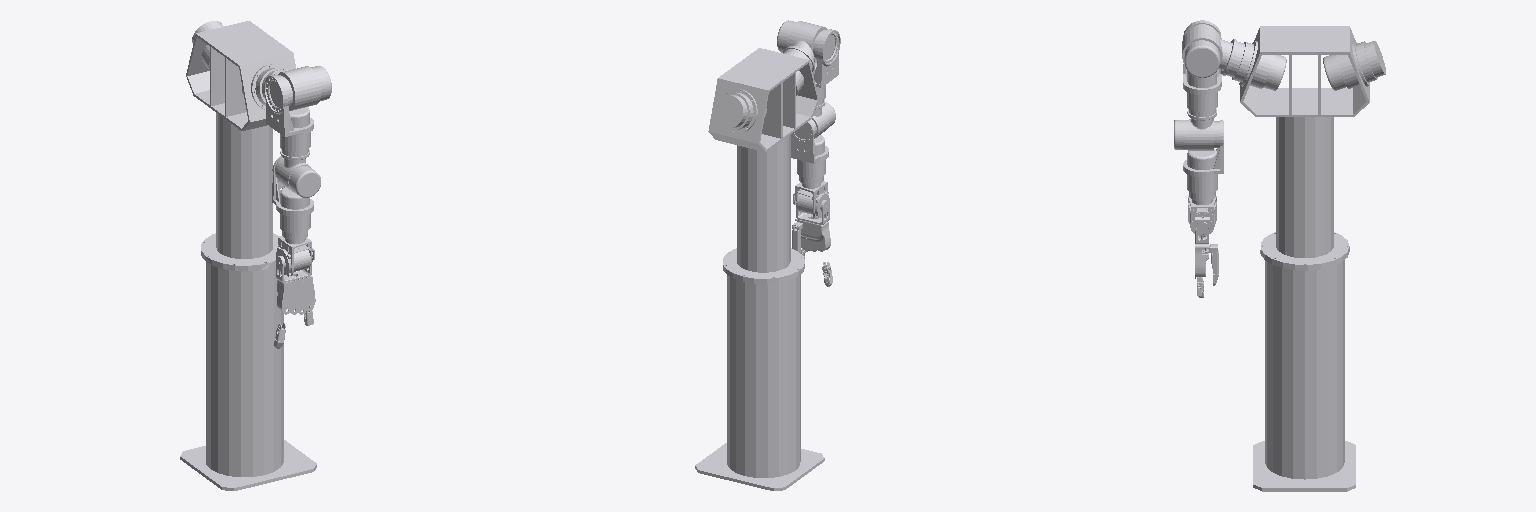
--- Facts derived from the render (not from the file) ---
3 views of the same robot in one strip: view 1: azimuth 30°, elevation 25°; view 2: azimuth 150°, elevation 25°; view 3: azimuth 270°, elevation 25° (orthographic).
Model nursing_robot with 30 links and 29 joints (21 revolute, 8 fixed), rooted at world, posed all joints at 0.
Links seen in each view (by area): view 1: base_Link, bigarm_Link, shoulder_Link, forearm_Link, elbow_Link, palm_Link, wrist_Link; view 2: base_Link, shoulder_Link, forearm_Link, bigarm_Link, wrist_Link, palm_Link, elbow_Link; view 3: base_Link, shoulder_Link, forearm_Link, bigarm_Link, elbow_Link, wrist_Link.
Boxes of the visible links, x1,y1,x2,y2 form: base_Link: (180,21,316,490); bigarm_Link: (264,75,313,156); shoulder_Link: (269,66,331,110); forearm_Link: (272,156,313,238); elbow_Link: (275,149,320,197); palm_Link: (277,276,315,314); wrist_Link: (276,235,314,276); base_Link: (695,48,824,490); shoulder_Link: (777,20,834,71); forearm_Link: (791,121,828,183); bigarm_Link: (813,29,840,105); wrist_Link: (793,179,829,218); palm_Link: (795,218,830,251); elbow_Link: (794,99,835,138); base_Link: (1227,26,1385,491); shoulder_Link: (1182,24,1237,77); forearm_Link: (1183,120,1223,199); bigarm_Link: (1183,20,1221,116); elbow_Link: (1174,109,1219,150); wrist_Link: (1188,195,1216,235).
Size in the robot's own frame: 0.249 by 0.4749 by 1.07 metres.
14 mesh visuals loaded from 23 distinct referenced files (14 binary STL); not drawn: 9 (reference not matched to a file when rendering).

The robot description file, URDF, robot "nursing_robot":
<robot
  name="nursing_robot">
 
  <link name="world"/>
 
  <joint
        name="base_connected2_world"
        type="fixed">
        <origin
        xyz="0 0 0"
        rpy="0 0 0" />
        <parent
        link="world" />
        <child
        link="base_Link" />
  </joint>

  <link
    name="base_Link">
    <inertial>
      <origin
        xyz="0.000975116535704247 -5.24080019366343E-16 0.653724872071743"
        rpy="0 0 0" />
      <mass
        value="13.1342209172534" />
      <inertia
        ixx="1.79837128310824"
        ixy="3.33392168039293E-18"
        ixz="0.00832128372767534"
        iyy="1.73981545954472"
        iyz="-4.02455846426619E-15"
        izz="0.121238103130393" />
    </inertial>
    <visual>
      <origin
        xyz="0 0 0"
        rpy="0 0 0" />
      <geometry>
        <mesh
          filename="package://nursing_description/meshes/base_link.STL" />
      </geometry>
      <material
        name="">
        <color
          rgba="0.866666666666667 0.866666666666667 0.890196078431373 1" />
      </material>
    </visual>
    <collision>
      <origin
        xyz="0 0 0"
        rpy="0 0 0" />
      <geometry>
        <mesh
          filename="package://nursing_description/meshes/base_link.STL" />
      </geometry>
    </collision>
  </link>

  <link
    name="shoulder_Link">
    <inertial>
      <origin
        xyz="-1.10770721484244E-08 -0.0126123963344358 0.00316621571354569"
        rpy="0 0 0" />
      <mass
        value="2.0005761085265" />
      <inertia
        ixx="0.00340242764902868"
        ixy="-2.47585028952477E-10"
        ixz="-4.78792550528614E-10"
        iyy="0.00213435518597974"
        iyz="-7.92332889559266E-05"
        izz="0.00314052250895575" />
    </inertial>
    <visual>
      <origin
        xyz="0 0 0"
        rpy="0 0 0" />
      <geometry>
        <mesh
          filename="package://nursing_description/meshes/shoulder_Link.STL" />
      </geometry>
      <material
        name="">
        <color
          rgba="0.866666666666667 0.866666666666667 0.890196078431373 1" />
      </material>
    </visual>
    <collision>
      <origin
        xyz="0 0 0"
        rpy="0 0 0" />
      <geometry>
        <mesh
          filename="package://nursing_description/meshes/shoulder_Link.STL" />
      </geometry>
    </collision>
  </link>

  <joint
    name="shoulder_Joint"
    type="revolute">
    <origin
      xyz="0 -0.22916 1.029"
      rpy="3.1416 1.2217 -1.5708" />
    <parent
      link="base_Link" />
    <child
      link="shoulder_Link" />
    <axis
      xyz="0 0 -1" />
    <limit
      lower="-3.1415"
      upper="3.1415"
      effort="120"
      velocity="6" />
    <dynamics
      damping="2"
      friction="0.3" />
  </joint>

  <link
    name="bigarm_Link">
    <inertial>
      <origin
        xyz="-9.3721702620897E-10 0.0942612985078085 -0.00683177829272414"
        rpy="0 0 0" />
      <mass
        value="1.3084597452699" />
      <inertia
        ixx="0.00242417981202897"
        ixy="2.47990218963625E-10"
        ixz="-8.73582284894497E-11"
        iyy="0.00123264296704978"
        iyz="-0.000442491903562605"
        izz="0.0022350526637949" />
    </inertial>
    <visual>
      <origin
        xyz="0 0 0"
        rpy="0 0 0" />
      <geometry>
        <mesh
          filename="package://nursing_description/meshes/bigarm_Link.STL" />
      </geometry>
      <material
        name="">
        <color
          rgba="0.866666666666667 0.866666666666667 0.890196078431373 1" />
      </material>
    </visual>
    <collision>
      <origin
        xyz="0 0 0"
        rpy="0 0 0" />
      <geometry>
        <mesh
          filename="package://nursing_description/meshes/bigarm_Link.STL" />
      </geometry>
    </collision>
  </link>

  <joint
    name="bigarm_Joint"
    type="revolute">
    <origin
      xyz="0 0 0"
      rpy="1.5708 1.2217 1.4884E-16" />
    <parent
      link="shoulder_Link" />
    <child
      link="bigarm_Link" />
    <axis
      xyz="0 0 -1" />
    <limit
      lower="-3.1415"
      upper="3.1415"
      effort="120"
      velocity="6" />
    <dynamics
      damping="2"
      friction="0.3" />
  </joint>

  <link
    name="elbow_Link">
    <inertial>
      <origin
        xyz="-8.91997043322197E-08 -0.00958056604066806 0.00550381000541089"
        rpy="0 0 0" />
      <mass
        value="1.18537012149853" />
      <inertia
        ixx="0.00154695052001683"
        ixy="-6.22143055836505E-10"
        ixz="-3.33603505356145E-09"
        iyy="0.000898816208241872"
        iyz="-6.2262995562934E-05"
        izz="0.00131163104230723" />
    </inertial>
    <visual>
      <origin
        xyz="0 0 0"
        rpy="0 0 0" />
      <geometry>
        <mesh
          filename="package://nursing_description/meshes/elbow_Link.STL" />
      </geometry>
      <material
        name="">
        <color
          rgba="0.866666666666667 0.866666666666667 0.890196078431373 1" />
      </material>
    </visual>
    <collision>
      <origin
        xyz="0 0 0"
        rpy="0 0 0" />
      <geometry>
        <mesh
          filename="package://nursing_description/meshes/elbow_Link.STL" />
      </geometry>
    </collision>
  </link>

  <joint
    name="elbow_Joint"
    type="revolute">
    <origin
      xyz="0 0.213 0"
      rpy="1.5708 -1.5708 0" />
    <parent
      link="bigarm_Link" />
    <child
      link="elbow_Link" />
    <axis
      xyz="0 0 1" />
    <limit
      lower="-3.1415"
      upper="3.1415"
      effort="60"
      velocity="6" />
    <dynamics
      damping="2"
      friction="0.3" />
  </joint>

  <link
    name="forearm_Link">
    <inertial>
      <origin
        xyz="2.24516415571224E-10 0.0885418372252827 -0.00303339081772486"
        rpy="0 0 0" />
      <mass
        value="1.18315193630833" />
      <inertia
        ixx="0.00167556758311703"
        ixy="-2.52012583202254E-12"
        ixz="5.61444410618564E-12"
        iyy="0.000885550233169105"
        iyz="-0.00016786378820563"
        izz="0.00157093160340839" />
    </inertial>
    <visual>
      <origin
        xyz="0 0 0"
        rpy="0 0 0" />
      <geometry>
        <mesh
          filename="package://nursing_description/meshes/forearm_Link.STL" />
      </geometry>
      <material
        name="">
        <color
          rgba="0.866666666666667 0.866666666666667 0.890196078431373 1" />
      </material>
    </visual>
    <collision>
      <origin
        xyz="0 0 0"
        rpy="0 0 0" />
      <geometry>
        <mesh
          filename="package://nursing_description/meshes/forearm_Link.STL" />
      </geometry>
    </collision>
  </link>

  <joint
    name="forearm_Joint"
    type="revolute">
    <origin
      xyz="0 0 0"
      rpy="-1.5708 0 3.1416" />
    <parent
      link="elbow_Link" />
    <child
      link="forearm_Link" />
    <axis
      xyz="0 0 -1" />
    <limit
      lower="-3.1415"
      upper="3.1415"
      effort="60"
      velocity="6" />
    <dynamics
      damping="2"
      friction="0.3" />
  </joint>

  <link
    name="wrist_Link">
    <inertial>
      <origin
        xyz="5.37717210896682E-07 -0.00317030985847225 0.00829753983993398"
        rpy="0 0 0" />
      <mass
        value="0.523525347931366" />
      <inertia
        ixx="0.000448235209138222"
        ixy="5.17833271363148E-09"
        ixz="1.31122834779533E-09"
        iyy="0.000375957230561681"
        iyz="-1.96584749734734E-05"
        izz="0.000312721910908243" />
    </inertial>
    <visual>
      <origin
        xyz="0 0 0"
        rpy="0 0 0" />
      <geometry>
        <mesh
          filename="package://nursing_description/meshes/wrist_Link.STL" />
      </geometry>
      <material
        name="">
        <color
          rgba="0.866666666666667 0.866666666666667 0.890196078431373 1" />
      </material>
    </visual>
    <collision>
      <origin
        xyz="0 0 0"
        rpy="0 0 0" />
      <geometry>
        <mesh
          filename="package://nursing_description/meshes/wrist_Link.STL" />
      </geometry>
    </collision>
  </link>

  <joint
    name="wrist_Joint"
    type="revolute">
    <origin
      xyz="0 0.211 0"
      rpy="1.5708 -1.5708 0" />
    <parent
      link="forearm_Link" />
    <child
      link="wrist_Link" />
    <axis
      xyz="0 0 1" />
    <limit
      lower="-3.1415"
      upper="3.1415"
      effort="60"
      velocity="6" />
    <dynamics
      damping="2"
      friction="0.3" />
  </joint>

  <link
    name="wrist_palm_Link">
    <inertial>
      <origin
        xyz="-2.77555756156289E-17 0.0212635124433856 0.00362088321038934"
        rpy="0 0 0" />
      <mass
        value="0.0785897078168313" />
      <inertia
        ixx="0.000105638187462249"
        ixy="-2.39957216855404E-20"
        ixz="-6.06530484064865E-21"
        iyy="8.02353574061376E-05"
        iyz="-2.01750373326787E-07"
        izz="3.78719966391509E-05" />
    </inertial>
    <visual>
      <origin
        xyz="0 0 0"
        rpy="0 0 0" />
      <geometry>
        <mesh
          filename="package://nursing_description/meshes/wrist_palm_Link.STL" />
      </geometry>
      <material
        name="">
        <color
          rgba="0.866666666666667 0.866666666666667 0.890196078431373 1" />
      </material>
    </visual>
    <collision>
      <origin
        xyz="0 0 0"
        rpy="0 0 0" />
      <geometry>
        <mesh
          filename="package://nursing_description/meshes/wrist_palm_Link.STL" />
      </geometry>
    </collision>
  </link>

  <joint
    name="wrist_palm_Joint"
    type="revolute">
    <origin
      xyz="0 -0.0005 0"
      rpy="-1.5708 -4.1197E-17 -3.1416" />
    <parent
      link="wrist_Link" />
    <child
      link="wrist_palm_Link" />
    <axis
      xyz="0 0 -1" />
    <limit
      lower="-3.1415"
      upper="3.1415"
      effort="30"
      velocity="6" />
    <dynamics
      damping="2"
      friction="0.3" />
  </joint>
  <link name="tool_Link"/>

  <joint
    name="tool_mount_Joint"
    type="fixed">
    <origin
      xyz="0 0.045 0"
      rpy="-4.7783E-19 -4.2367E-17 -9.2245E-20" />
    <parent
      link="wrist_palm_Link" />
    <child
      link="tool_Link" />
  </joint>
  
  <link
    name="palm_Link">
    <inertial>
      <origin
        xyz="-0.000858917467673748 0.0783018654779908 -0.000685339950457218"
        rpy="0 0 0" />
      <mass
        value="0.185255775815419" />
      <inertia
        ixx="0.000201199253090397"
        ixy="3.66744909869903E-06"
        ixz="-2.66736820132481E-06"
        iyy="0.000122776533201212"
        iyz="2.85253552275154E-06"
        izz="0.00011848560937483" />
    </inertial>
    <visual>
      <origin
        xyz="0 0 0"
        rpy="0 0 0" />
      <geometry>
        <mesh
          filename="package://nursing_description/meshes/palm_Link.STL" />
      </geometry>
      <material
        name="">
        <color
          rgba="0.866666666666667 0.866666666666667 0.890196078431373 1" />
      </material>
    </visual>
    <collision>
      <origin
        xyz="0 0 0"
        rpy="0 0 0" />
      <geometry>
        <mesh
          filename="package://nursing_description/meshes/palm_Link.STL" />
      </geometry>
    </collision>
  </link>

  <joint
    name="tool_mount_Joint2"
    type="fixed">
    <origin
      xyz="0 -0.045 0"
      rpy="-4.7783E-19 -4.2367E-17 -9.2245E-20" />
    <parent
      link="tool_Link" />
    <child
      link="palm_Link" />
  </joint>

  <link
    name="thumb_root_Link">
    <inertial>
      <origin
        xyz="0.0125818962606528 -4.87799550893953E-05 -0.000801264271478086"
        rpy="0 0 0" />
      <mass
        value="0.00873863966494842" />
      <inertia
        ixx="4.78618606797515E-07"
        ixy="4.67506565969486E-09"
        ixz="6.50786986041919E-08"
        iyy="6.59226240926663E-07"
        iyz="-2.42881192046454E-09"
        izz="7.73142386256592E-07" />
    </inertial>
    <visual>
      <origin
        xyz="0 0 0"
        rpy="0 0 0" />
      <geometry>
        <mesh
          filename="package://nursing_description/meshes/thumb_root_Link.STL" />
      </geometry>
      <material
        name="">
        <color
          rgba="0.866666666666667 0.866666666666667 0.890196078431373 1" />
      </material>
    </visual>
    <collision>
      <origin
        xyz="0 0 0"
        rpy="0 0 0" />
      <geometry>
        <mesh
          filename="package://nursing_description/meshes/thumb_root_Link.STL" />
      </geometry>
    </collision>
  </link>

  <joint
    name="thumb_root_Joint"
    type="revolute">
    <origin
      xyz="0.008 0.059 -0.0245"
      rpy="-1.5708 1.8288E-16 -3.4659E-16" />
    <parent
      link="palm_Link" />
    <child
      link="thumb_root_Link" />
    <axis
      xyz="0 0 1" />
    <limit
      lower="-3.1415"
      upper="3.1415"
      effort="1"
      velocity="3" />
    <dynamics
      damping="0.1"
      friction="0.1" />
  </joint>

  <link
    name="thumb_pulp_Link">
    <inertial>
      <origin
        xyz="0.027449995981349 -0.000752092685807448 8.2502130787053E-06"
        rpy="0 0 0" />
      <mass
        value="0.0341453180652159" />
      <inertia
        ixx="1.62379136177592E-06"
        ixy="-1.99115121352193E-07"
        ixz="7.70421455920083E-09"
        iyy="7.56851305166079E-06"
        iyz="-2.12966638961326E-10"
        izz="7.30923754370069E-06" />
    </inertial>
    <visual>
      <origin
        xyz="0 0 0"
        rpy="0 0 0" />
      <geometry>
        <mesh
          filename="package://nursing_description/meshes/thumb_pulp_Link.STL" />
      </geometry>
      <material
        name="">
        <color
          rgba="0.866666666666667 0.866666666666667 0.890196078431373 1" />
      </material>
    </visual>
    <collision>
      <origin
        xyz="0 0 0"
        rpy="0 0 0" />
      <geometry>
        <mesh
          filename="package://nursing_description/meshes/thumb_pulp_Link.STL" />
      </geometry>
    </collision>
  </link>

  <joint
    name="thumb_pulp_Joint"
    type="revolute">
    <origin
      xyz="0.0215 0 0"
      rpy="-1.5707 -1.5708 0" />
    <parent
      link="thumb_root_Link" />
    <child
      link="thumb_pulp_Link" />
    <axis
      xyz="0 0 -1" />
    <limit
      lower="-3.1415"
      upper="3.1415"
      effort="0.5"
      velocity="3" />
    <dynamics
      damping="0.1"
      friction="0.1" />
  </joint>

  <link
    name="thumb_tip_Link">
    <inertial>
      <origin
        xyz="-0.0152691862985479 0.0072465218121634 2.09723793173078E-05"
        rpy="0 0 0" />
      <mass
        value="0.013992456954275" />
      <inertia
        ixx="8.66964655825818E-07"
        ixy="3.92842326251715E-07"
        ixz="-4.49412174540461E-09"
        iyy="1.39449488012268E-06"
        iyz="2.13608665298848E-09"
        izz="1.4425188628725E-06" />
    </inertial>
    <visual>
      <origin
        xyz="0 0 0"
        rpy="0 0 0" />
      <geometry>
        <mesh
          filename="package://nursing_description/meshes/thumb_tip_Link.STL" />
      </geometry>
      <material
        name="">
        <color
          rgba="0.866666666666667 0.866666666666667 0.890196078431373 1" />
      </material>
    </visual>
    <collision>
      <origin
        xyz="0 0 0"
        rpy="0 0 0" />
      <geometry>
        <mesh
          filename="package://nursing_description/meshes/thumb_tip_Link.STL" />
      </geometry>
    </collision>
  </link>

  <joint
    name="thumb_tip_Joint"
    type="revolute">
    <origin
      xyz="0.053 0 0"
      rpy="-1.5707 3.14159 1.5707" />
    <parent
      link="thumb_pulp_Link" />
    <child
      link="thumb_tip_Link" />
    <axis
      xyz="0 0 -1" />
    <limit
      lower="-3.1415"
      upper="3.1415"
      effort="0.5"
      velocity="3" />
    <dynamics
      damping="0.1"
      friction="0.1" />
  </joint>

  <link
    name="finger_root_Link1">
    <inertial>
      <origin
        xyz="0.00085421358266341 0.0179894317640127 4.90932063612615E-08"
        rpy="0 0 0" />
      <mass
        value="0.00998735644770016" />
      <inertia
        ixx="1.62809417646463E-06"
        ixy="1.1020761906609E-07"
        ixz="-4.39577614689512E-12"
        iyy="6.08730286509201E-07"
        iyz="5.7526352716471E-13"
        izz="1.53692392596848E-06" />
    </inertial>
    <visual>
      <origin
        xyz="0 0 0"
        rpy="0 0 0" />
      <geometry>
        <mesh
          filename="package://nursing_description/meshes/finger_root_Link1.STL" />
      </geometry>
      <material
        name="">
        <color
          rgba="0.866666666666667 0.866666666666667 0.890196078431373 1" />
      </material>
    </visual>
    <collision>
      <origin
        xyz="0 0 0"
        rpy="0 0 0" />
      <geometry>
        <mesh
          filename="package://nursing_description/meshes/finger_root_Link1.STL" />
      </geometry>
    </collision>
  </link>

  <joint
    name="finger_root_Joint1"
    type="revolute">
    <origin
      xyz="-0.006 0.12897 -0.030784"
      rpy="-0.087266 3.8885E-16 -9.7966E-17" />
    <parent
      link="palm_Link" />
    <child
      link="finger_root_Link1" />
    <axis
      xyz="0 0 -1" />
    <limit
      lower="-3.1415"
      upper="3.1415"
      effort="1"
      velocity="6" />
    <dynamics
      damping="0.1"
      friction="0.1" />
  </joint>

  <link
    name="finger_pulp_Link1">
    <inertial>
      <origin
        xyz="0.000323041387879197 0.0155892015854537 8.49032423644314E-07"
        rpy="0 0 0" />
      <mass
        value="0.00868632679939799" />
      <inertia
        ixx="1.14779480878089E-06"
        ixy="7.75788539608331E-08"
        ixz="3.94437985959936E-11"
        iyy="5.07653574731615E-07"
        iyz="1.03932782776036E-10"
        izz="1.03364601842098E-06" />
    </inertial>
    <visual>
      <origin
        xyz="0 0 0"
        rpy="0 0 0" />
      <geometry>
        <mesh
          filename="package://nursing_description/meshes/finger_pulp_Link1.STL" />
      </geometry>
      <material
        name="">
        <color
          rgba="0.866666666666667 0.866666666666667 0.890196078431373 1" />
      </material>
    </visual>
    <collision>
      <origin
        xyz="0 0 0"
        rpy="0 0 0" />
      <geometry>
        <mesh
          filename="package://nursing_description/meshes/finger_pulp_Link1.STL" />
      </geometry>
    </collision>
  </link>

  <joint
    name="finger_pulp_Joint1"
    type="revolute">
    <origin
      xyz="0 0.033 0"
      rpy="1.0686E-15 -1.6181E-17 3.2315E-16" />
    <parent
      link="finger_root_Link1" />
    <child
      link="finger_pulp_Link1" />
    <axis
      xyz="0 0 -1" />
    <limit
      lower="-3.1415"
      upper="3.1415"
      effort="0.5"
      velocity="3" />
    <dynamics
      damping="0.1"
      friction="0.1" />
  </joint>

  <link
    name="finger_tip_Link1">
    <inertial>
      <origin
        xyz="0.00148025519930298 0.0131304666536947 2.77465185490322E-05"
        rpy="0 0 0" />
      <mass
        value="0.0106102845095467" />
      <inertia
        ixx="8.33617935098718E-07"
        ixy="-6.54450353100635E-08"
        ixz="4.3263337484433E-10"
        iyy="5.07253023124455E-07"
        iyz="3.86570286955424E-09"
        izz="7.4683637887455E-07" />
    </inertial>
    <visual>
      <origin
        xyz="0 0 0"
        rpy="0 0 0" />
      <geometry>
        <mesh
          filename="package://nursing_description/meshes/finger_tip_Link1.STL" />
      </geometry>
      <material
        name="">
        <color
          rgba="0.866666666666667 0.866666666666667 0.890196078431373 1" />
      </material>
    </visual>
    <collision>
      <origin
        xyz="0 0 0"
        rpy="0 0 0" />
      <geometry>
        <mesh
          filename="package://nursing_description/meshes/finger_tip_Link1.STL" />
      </geometry>
    </collision>
  </link>

  <joint
    name="finger_tip_Joint1"
    type="revolute">
    <origin
      xyz="0 0.028 0"
      rpy="-4.3021E-16 -5.8465E-16 -7.6495E-16" />
    <parent
      link="finger_pulp_Link1" />
    <child
      link="finger_tip_Link1" />
    <axis
      xyz="0 0 -1" />
    <limit
      lower="-3.1415"
      upper="3.1415"
      effort="0.5"
      velocity="3" />
    <dynamics
      damping="0.1"
      friction="0.1" />
  </joint>

  <link
    name="finger_root_Link2">
    <inertial>
      <origin
        xyz="0.000854209403321843 0.017989434507023 4.51930543318019E-08"
        rpy="0 0 0" />
      <mass
        value="0.00998735107929643" />
      <inertia
        ixx="1.62809409863191E-06"
        ixy="1.10207023652924E-07"
        ixz="-4.35047632176436E-12"
        iyy="6.08730243149985E-07"
        iyz="7.25655903585178E-13"
        izz="1.53692348120912E-06" />
    </inertial>
    <visual>
      <origin
        xyz="0 0 0"
        rpy="0 0 0" />
      <geometry>
        <mesh
          filename="package://nursing_description/meshes/finger_root_Link2.STL" />
      </geometry>
      <material
        name="">
        <color
          rgba="0.866666666666667 0.866666666666667 0.890196078431373 1" />
      </material>
    </visual>
    <collision>
      <origin
        xyz="0 0 0"
        rpy="0 0 0" />
      <geometry>
        <mesh
          filename="package://nursing_description/meshes/finger_root_Link2.STL" />
      </geometry>
    </collision>
  </link>

  <joint
    name="finger_root_Joint2"
    type="revolute">
    <origin
      xyz="-0.006 0.134 -0.01"
      rpy="7.0377E-16 4.4735E-16 4.7878E-16" />
    <parent
      link="palm_Link" />
    <child
      link="finger_root_Link2" />
    <axis
      xyz="0 0 -1" />
    <limit
      lower="-3.1415"
      upper="3.1415"
      effort="1"
      velocity="6" />
    <dynamics
      damping="0.1"
      friction="0.1" />
  </joint>

  <link
    name="finger_pulp_Link2">
    <inertial>
      <origin
        xyz="0.000323032946156931 0.0155892046967881 8.5182315229422E-07"
        rpy="0 0 0" />
      <mass
        value="0.00868631420920856" />
      <inertia
        ixx="1.14779416686536E-06"
        ixy="7.75786511115928E-08"
        ixz="3.92446550182023E-11"
        iyy="5.07652686877478E-07"
        iyz="1.03881261463607E-10"
        izz="1.03364543876975E-06" />
    </inertial>
    <visual>
      <origin
        xyz="0 0 0"
        rpy="0 0 0" />
      <geometry>
        <mesh
          filename="package://nursing_description/meshes/finger_pulp_Link2.STL" />
      </geometry>
      <material
        name="">
        <color
          rgba="0.866666666666667 0.866666666666667 0.890196078431373 1" />
      </material>
    </visual>
    <collision>
      <origin
        xyz="0 0 0"
        rpy="0 0 0" />
      <geometry>
        <mesh
          filename="package://nursing_description/meshes/finger_pulp_Link2.STL" />
      </geometry>
    </collision>
  </link>

  <joint
    name="finger_pulp_Joint2"
    type="revolute">
    <origin
      xyz="0 0.033 0"
      rpy="9.0577E-16 -6.008E-16 -5.9674E-16" />
    <parent
      link="finger_root_Link2" />
    <child
      link="finger_pulp_Link2" />
    <axis
      xyz="0 0 1" />
    <limit
      lower="-3.1415"
      upper="3.1415"
      effort="0.5"
      velocity="3" />
    <dynamics
      damping="0.1"
      friction="0.1" />
  </joint>

  <link
    name="finger_tip_Link2">
    <inertial>
      <origin
        xyz="0.00148025358833312 0.0131304692738635 2.77421047547525E-05"
        rpy="0 0 0" />
      <mass
        value="0.0106102830262735" />
      <inertia
        ixx="8.33618125744598E-07"
        ixy="-6.54448503304505E-08"
        ixz="4.3268366444515E-10"
        iyy="5.07252849252122E-07"
        iyz="3.86592513273236E-09"
        izz="7.46836423409837E-07" />
    </inertial>
    <visual>
      <origin
        xyz="0 0 0"
        rpy="0 0 0" />
      <geometry>
        <mesh
          filename="package://nursing_description/meshes/finger_tip_Link2.STL" />
      </geometry>
      <material
        name="">
        <color
          rgba="0.866666666666667 0.866666666666667 0.890196078431373 1" />
      </material>
    </visual>
    <collision>
      <origin
        xyz="0 0 0"
        rpy="0 0 0" />
      <geometry>
        <mesh
          filename="package://nursing_description/meshes/finger_tip_Link2.STL" />
      </geometry>
    </collision>
  </link>

  <joint
    name="finger_tip_Joint2"
    type="revolute">
    <origin
      xyz="0 0.028 0"
      rpy="-2.1837E-16 -3.6714E-16 7.6328E-17" />
    <parent
      link="finger_pulp_Link2" />
    <child
      link="finger_tip_Link2" />
    <axis
      xyz="0 0 1" />
    <limit
      lower="-3.1415"
      upper="3.1415"
      effort="0.5"
      velocity="3" />
    <dynamics
      damping="0.1"
      friction="0.1" />
  </joint>

  <link
    name="finger_root__Link3">
    <inertial>
      <origin
        xyz="0.000854216158261562 0.0179894301933772 4.5116595868977E-08"
        rpy="0 0 0" />
      <mass
        value="0.00998736281169698" />
      <inertia
        ixx="1.62809466763915E-06"
        ixy="1.10207637026019E-07"
        ixz="-4.59350016183217E-12"
        iyy="6.08731021353847E-07"
        iyz="9.86877235574565E-13"
        izz="1.53692422034934E-06" />
    </inertial>
    <visual>
      <origin
        xyz="0 0 0"
        rpy="0 0 0" />
      <geometry>
        <mesh
          filename="package://nursing_description/meshes/finger_root__Link3.STL" />
      </geometry>
      <material
        name="">
        <color
          rgba="0.866666666666667 0.866666666666667 0.890196078431373 1" />
      </material>
    </visual>
    <collision>
      <origin
        xyz="0 0 0"
        rpy="0 0 0" />
      <geometry>
        <mesh
          filename="package://nursing_description/meshes/finger_root__Link3.STL" />
      </geometry>
    </collision>
  </link>

  <joint
    name="finger_root_Joint3"
    type="revolute">
    <origin
      xyz="-0.006 0.12897 0.010784"
      rpy="0.087266 2.4291E-16 3.8913E-16" />
    <parent
      link="palm_Link" />
    <child
      link="finger_root__Link3" />
    <axis
      xyz="0 0 -1" />
    <limit
      lower="-3.1415"
      upper="3.1415"
      effort="1"
      velocity="6" />
    <dynamics
      damping="0.1"
      friction="0.1" />
  </joint>

  <link
    name="finger_pulp_Link3">
    <inertial>
      <origin
        xyz="0.000323040451644913 0.0155892002842233 8.53525906306662E-07"
        rpy="0 0 0" />
      <mass
        value="0.00868632383973415" />
      <inertia
        ixx="1.14779455901612E-06"
        ixy="7.75789409004714E-08"
        ixz="3.90694121496773E-11"
        iyy="5.07653198288308E-07"
        iyz="1.03968358082949E-10"
        izz="1.03364623913664E-06" />
    </inertial>
    <visual>
      <origin
        xyz="0 0 0"
        rpy="0 0 0" />
      <geometry>
        <mesh
          filename="package://nursing_description/meshes/finger_pulp_Link3.STL" />
      </geometry>
      <material
        name="">
        <color
          rgba="0.866666666666667 0.866666666666667 0.890196078431373 1" />
      </material>
    </visual>
    <collision>
      <origin
        xyz="0 0 0"
        rpy="0 0 0" />
      <geometry>
        <mesh
          filename="package://nursing_description/meshes/finger_pulp_Link3.STL" />
      </geometry>
    </collision>
  </link>

  <joint
    name="finger_pulp_Joint3"
    type="revolute">
    <origin
      xyz="0 0.033 0"
      rpy="1.2212E-15 2.5285E-16 -4.7876E-16" />
    <parent
      link="finger_root__Link3" />
    <child
      link="finger_pulp_Link3" />
    <axis
      xyz="0 0 1" />
    <limit
      lower="-3.1415"
      upper="3.1415"
      effort="0.5"
      velocity="3" />
    <dynamics
      damping="0.1"
      friction="0.1" />
  </joint>

  <link
    name="finger_tip_Link3">
    <inertial>
      <origin
        xyz="0.00148025124885523 0.0131304687491611 2.77366166634846E-05"
        rpy="0 0 0" />
      <mass
        value="0.0106102772879917" />
      <inertia
        ixx="8.33617820044E-07"
        ixy="-6.54451256341447E-08"
        ixz="4.32743985174503E-10"
        iyy="5.07252714479879E-07"
        iyz="3.86619676388197E-09"
        izz="7.46836062326113E-07" />
    </inertial>
    <visual>
      <origin
        xyz="0 0 0"
        rpy="0 0 0" />
      <geometry>
        <mesh
          filename="package://nursing_description/meshes/finger_tip_Link3.STL" />
      </geometry>
      <material
        name="">
        <color
          rgba="0.866666666666667 0.866666666666667 0.890196078431373 1" />
      </material>
    </visual>
    <collision>
      <origin
        xyz="0 0 0"
        rpy="0 0 0" />
      <geometry>
        <mesh
          filename="package://nursing_description/meshes/finger_tip_Link3.STL" />
      </geometry>
    </collision>
  </link>

  <joint
    name="finger_tip_Joint3"
    type="revolute">
    <origin
      xyz="0 0.028 0"
      rpy="9.8532E-16 -1.195E-16 8.7053E-16" />
    <parent
      link="finger_pulp_Link3" />
    <child
      link="finger_tip_Link3" />
    <axis
      xyz="0 0 1" />
    <limit
      lower="-3.1415"
      upper="3.1415"
      effort="0.5"
      velocity="3" />
    <dynamics
      damping="0.1"
      friction="0.1" />
  </joint>

  <link
    name="finger_root__Link4">
    <inertial>
      <origin
        xyz="0.000854214380922175 0.0179894314736897 4.12605557498225E-08"
        rpy="0 0 0" />
      <mass
        value="0.00998736123193078" />
      <inertia
        ixx="1.62809469493317E-06"
        ixy="1.10208035100687E-07"
        ixz="-4.57529512154134E-12"
        iyy="6.08730990128511E-07"
        iyz="1.05000463533208E-12"
        izz="1.53692395398855E-06" />
    </inertial>
    <visual>
      <origin
        xyz="0 0 0"
        rpy="0 0 0" />
      <geometry>
        <mesh
          filename="package://nursing_description/meshes/finger_root__Link4.STL" />
      </geometry>
      <material
        name="">
        <color
          rgba="0.866666666666667 0.866666666666667 0.890196078431373 1" />
      </material>
    </visual>
    <collision>
      <origin
        xyz="0 0 0"
        rpy="0 0 0" />
      <geometry>
        <mesh
          filename="package://nursing_description/meshes/finger_root__Link4.STL" />
      </geometry>
    </collision>
  </link>

  <joint
    name="finger_root_Joint4"
    type="revolute">
    <origin
      xyz="-0.006 0.12386 0.031563"
      rpy="0.17453 -9.9426E-16 -2.4912E-16" />
    <parent
      link="palm_Link" />
    <child
      link="finger_root__Link4" />
    <axis
      xyz="0 0 -1" />
    <limit
      lower="-3.1415"
      upper="3.1415"
      effort="1"
      velocity="6" />
    <dynamics
      damping="0.1"
      friction="0.1" />
  </joint>

  <link
    name="finger_pulp_Link4">
    <inertial>
      <origin
        xyz="0.000323035621993095 0.0155892041303389 8.5559988254047E-07"
        rpy="0 0 0" />
      <mass
        value="0.00868631578597844" />
      <inertia
        ixx="1.14779397697803E-06"
        ixy="7.75788086698591E-08"
        ixz="3.88955819443451E-11"
        iyy="5.07652706334165E-07"
        iyz="1.0413128618827E-10"
        izz="1.03364569528293E-06" />
    </inertial>
    <visual>
      <origin
        xyz="0 0 0"
        rpy="0 0 0" />
      <geometry>
        <mesh
          filename="package://nursing_description/meshes/finger_pulp_Link4.STL" />
      </geometry>
      <material
        name="">
        <color
          rgba="0.866666666666667 0.866666666666667 0.890196078431373 1" />
      </material>
    </visual>
    <collision>
      <origin
        xyz="0 0 0"
        rpy="0 0 0" />
      <geometry>
        <mesh
          filename="package://nursing_description/meshes/finger_pulp_Link4.STL" />
      </geometry>
    </collision>
  </link>

  <joint
    name="finger_pulp_Joint4"
    type="revolute">
    <origin
      xyz="0 0.033 0"
      rpy="1.4155E-15 4.972E-16 -3.1323E-16" />
    <parent
      link="finger_root__Link4" />
    <child
      link="finger_pulp_Link4" />
    <axis
      xyz="0 0 1" />
    <limit
      lower="-3.1415"
      upper="3.1415"
      effort="0.5"
      velocity="3" />
    <dynamics
      damping="0.1"
      friction="0.1" />
  </joint>

  <link
    name="finger_tip_Link4">
    <inertial>
      <origin
        xyz="0.0014802533327806 0.0131304688781141 2.77323028520654E-05"
        rpy="0 0 0" />
      <mass
        value="0.010610279402941" />
      <inertia
        ixx="8.33617666276094E-07"
        ixy="-6.54453387989592E-08"
        ixz="4.32652410334316E-10"
        iyy="5.07252941570464E-07"
        iyz="3.86652617126035E-09"
        izz="7.46836088838055E-07" />
    </inertial>
    <visual>
      <origin
        xyz="0 0 0"
        rpy="0 0 0" />
      <geometry>
        <mesh
          filename="package://nursing_description/meshes/finger_tip_Link4.STL" />
      </geometry>
      <material
        name="">
        <color
          rgba="0.866666666666667 0.866666666666667 0.890196078431373 1" />
      </material>
    </visual>
    <collision>
      <origin
        xyz="0 0 0"
        rpy="0 0 0" />
      <geometry>
        <mesh
          filename="package://nursing_description/meshes/finger_tip_Link4.STL" />
      </geometry>
    </collision>
  </link>

  <joint
    name="finger_tip_Joint4"
    type="revolute">
    <origin
      xyz="0 0.028 0"
      rpy="6.3838E-16 -4.8265E-16 1.2541E-15" />
    <parent
      link="finger_pulp_Link4" />
    <child
      link="finger_tip_Link4" />
    <axis
      xyz="0 0 1" />
    <limit
      lower="-3.1415"
      upper="3.1415"
      effort="0.5"
      velocity="3" />
    <dynamics
      damping="0.1"
      friction="0.1" />
  </joint>

  <link name="index_ee_Link"/>
  
  <joint
    name="index_ee_joint"
    type="fixed">
    <origin
      xyz="0.006 0.028 0"
      rpy="0.0 0.0 0.0" />
    <parent
      link="finger_tip_Link1" />
    <child
      link="index_ee_Link" />
  </joint>

  <link name="middle_ee_Link"/>
  
  <joint
    name="middle_ee_joint"
    type="fixed">
    <origin
      xyz="0.006 0.028 0"
      rpy="0.0 0.0 0.0" />
    <parent
      link="finger_tip_Link2" />
    <child
      link="middle_ee_Link" />
  </joint>

  <link name="ring_ee_Link"/>
  
  <joint
    name="ring_ee_joint"
    type="fixed">
    <origin
      xyz="0.006 0.028 0"
      rpy="0.0 0.0 0.0" />
    <parent
      link="finger_tip_Link3" />
    <child
      link="ring_ee_Link" />
  </joint>

  <link name="pingky_ee_Link"/>

  <joint
    name="pingky_ee_joint"
    type="fixed">
    <origin
      xyz="0.006 0.028 0"
      rpy="0.0 0.0 0.0" />
    <parent
      link="finger_tip_Link4" />
    <child
      link="pingky_ee_Link" />
  </joint>

  <link name="thumb_ee_Link"/>

  <joint
    name="thumb_ee_joint"
    type="fixed">
    <origin
      xyz="0.0065 0.0 -0.0365"
      rpy="0.0 0.0 0.0" />
    <parent
      link="thumb_tip_Link" />
    <child
      link="thumb_ee_Link" />
  </joint>
<!-- Gazebo plugin -->
    <gazebo>
        <plugin name="gazebo_ros_control" filename="libgazebo_ros_control.so">
        <robotNamespace>/nursing_robot</robotNamespace>
        <robotSimType>gazebo_ros_control/DefaultRobotHWSim</robotSimType>
        <legacyModeNS>true</legacyModeNS>
        </plugin>
    </gazebo>
<!--Transmission-->

<!--arm-->
    <transmission name="shoulder_Joint_trans">
      <type>transmission_interface/SimpleTransmission</type>
      <joint name="shoulder_Joint">        					          		  
        <hardwareInterface>hardware_interface/PositionJointInterface</hardwareInterface>
      </joint>
      <actuator name="shoulder_Joint_motor">
        <mechanicalReduction>1</mechanicalReduction>
      </actuator>
    </transmission>

    <transmission name="bigarm_Joint_trans">
      <type>transmission_interface/SimpleTransmission</type>
      <joint name="bigarm_Joint">        					          		  
        <hardwareInterface>hardware_interface/PositionJointInterface</hardwareInterface>
      </joint>
      <actuator name="bigarm_Joint_motor">
        <mechanicalReduction>1</mechanicalReduction>
      </actuator>
    </transmission>

   <transmission name="elbow_Joint_trans">
      <type>transmission_interface/SimpleTransmission</type>
      <joint name="elbow_Joint">        					          		  
        <hardwareInterface>hardware_interface/PositionJointInterface</hardwareInterface>
      </joint>
      <actuator name="elbow_Joint_motor">
        <mechanicalReduction>1</mechanicalReduction>
      </actuator>
    </transmission>

   <transmission name="forearm_Joint_trans">
      <type>transmission_interface/SimpleTransmission</type>
      <joint name="forearm_Joint">        					          		  
        <hardwareInterface>hardware_interface/PositionJointInterface</hardwareInterface>
      </joint>
      <actuator name="forearm_Joint_motor">
        <mechanicalReduction>1</mechanicalReduction>
      </actuator>
    </transmission>

    <transmission name="wrist_Joint_trans">
      <type>transmission_interface/SimpleTransmission</type>
      <joint name="wrist_Joint">        					          		  
        <hardwareInterface>hardware_interface/PositionJointInterface</hardwareInterface>
      </joint>
      <actuator name="wrist_Joint_motor">
        <mechanicalReduction>1</mechanicalReduction>
      </actuator>
    </transmission>

   <transmission name="wrist_palm_Joint_trans">
      <type>transmission_interface/SimpleTransmission</type>
      <joint name="wrist_palm_Joint">        					          		  
        <hardwareInterface>hardware_interface/PositionJointInterface</hardwareInterface>
      </joint>
      <actuator name="wrist_palm_Joint_motor">
        <mechanicalReduction>1</mechanicalReduction>
      </actuator>
    </transmission>
    
    <transmission name="thumb_root_Joint_trans">
      <type>transmission_interface/SimpleTransmission</type>
      <joint name="thumb_root_Joint">        					          		  
        <hardwareInterface>hardware_interface/PositionJointInterface</hardwareInterface>
      </joint>
      <actuator name="thumb_root_Joint_motor">
        <mechanicalReduction>1</mechanicalReduction>
      </actuator>
    </transmission>

     <transmission name="thumb_pulp_Joint_trans">
      <type>transmission_interface/SimpleTransmission</type>
      <joint name="thumb_pulp_Joint">        					          		  
        <hardwareInterface>hardware_interface/PositionJointInterface</hardwareInterface>
      </joint>
      <actuator name="thumb_pulp_Joint_motor">
        <mechanicalReduction>1</mechanicalReduction>
      </actuator>
    </transmission>
    
     <transmission name="thumb_tip_Joint_trans">
      <type>transmission_interface/SimpleTransmission</type>
      <joint name="thumb_tip_Joint">        					          		  
        <hardwareInterface>hardware_interface/PositionJointInterface</hardwareInterface>
      </joint>
      <actuator name="thumb_tip_Joint_motor">
        <mechanicalReduction>1</mechanicalReduction>
      </actuator>
    </transmission>

     <transmission name="finger_root_Joint1_trans">
      <type>transmission_interface/SimpleTransmission</type>
      <joint name="finger_root_Joint1">        					          		  
        <hardwareInterface>hardware_interface/PositionJointInterface</hardwareInterface>
      </joint>
      <actuator name="finger_root_Joint1_motor">
        <mechanicalReduction>1</mechanicalReduction>
      </actuator>
    </transmission>

    <transmission name="finger_pulp_Joint1_trans">
      <type>transmission_interface/SimpleTransmission</type>
      <joint name="finger_pulp_Joint1">        					          		  
        <hardwareInterface>hardware_interface/PositionJointInterface</hardwareInterface>
      </joint>
      <actuator name="finger_pulp_Joint1_motor">
        <mechanicalReduction>1</mechanicalReduction>
      </actuator>
    </transmission>

     <transmission name="finger_tip_Joint1_trans">
      <type>transmission_interface/SimpleTransmission</type>
      <joint name="finger_tip_Joint1">        					          		  
        <hardwareInterface>hardware_interface/PositionJointInterface</hardwareInterface>
      </joint>
      <actuator name="finger_tip_Joint1_motor">
        <mechanicalReduction>1</mechanicalReduction>
      </actuator>
    </transmission>

    <transmission name="finger_root_Joint2_trans">
      <type>transmission_interface/SimpleTransmission</type>
      <joint name="finger_root_Joint2">        					          		  
        <hardwareInterface>hardware_interface/PositionJointInterface</hardwareInterface>
      </joint>
      <actuator name="finger_root_Joint2_motor">
        <mechanicalReduction>1</mechanicalReduction>
      </actuator>
    </transmission>

    <transmission name="finger_pulp_Joint2_trans">
      <type>transmission_interface/SimpleTransmission</type>
      <joint name="finger_pulp_Joint2">        					          		  
        <hardwareInterface>hardware_interface/PositionJointInterface</hardwareInterface>
      </joint>
      <actuator name="finger_pulp_Joint2_motor">
        <mechanicalReduction>1</mechanicalReduction>
      </actuator>
    </transmission>

     <transmission name="finger_tip_Joint2_trans">
      <type>transmission_interface/SimpleTransmission</type>
      <joint name="finger_tip_Joint2">        					          		  
        <hardwareInterface>hardware_interface/PositionJointInterface</hardwareInterface>
      </joint>
      <actuator name="finger_tip_Joint2_motor">
        <mechanicalReduction>1</mechanicalReduction>
      </actuator>
    </transmission>

    <transmission name="finger_root_Joint3_trans">
      <type>transmission_interface/SimpleTransmission</type>
      <joint name="finger_root_Joint3">        					          		  
        <hardwareInterface>hardware_interface/PositionJointInterface</hardwareInterface>
      </joint>
      <actuator name="finger_root_Joint3_motor">
        <mechanicalReduction>1</mechanicalReduction>
      </actuator>
    </transmission>

    <transmission name="finger_pulp_Joint3_trans">
      <type>transmission_interface/SimpleTransmission</type>
      <joint name="finger_pulp_Joint3">        					          		  
        <hardwareInterface>hardware_interface/PositionJointInterface</hardwareInterface>
      </joint>
      <actuator name="finger_pulp_Joint3_motor">
        <mechanicalReduction>1</mechanicalReduction>
      </actuator>
    </transmission>

     <transmission name="finger_tip_Joint3_trans">
      <type>transmission_interface/SimpleTransmission</type>
      <joint name="finger_tip_Joint3">        					          		  
        <hardwareInterface>hardware_interface/PositionJointInterface</hardwareInterface>
      </joint>
      <actuator name="finger_tip_Joint3_motor">
        <mechanicalReduction>1</mechanicalReduction>
      </actuator>
    </transmission>

    <transmission name="finger_root_Joint4_trans">
      <type>transmission_interface/SimpleTransmission</type>
      <joint name="finger_root_Joint4">        					          		  
        <hardwareInterface>hardware_interface/PositionJointInterface</hardwareInterface>
      </joint>
      <actuator name="finger_root_Joint4_motor">
        <mechanicalReduction>1</mechanicalReduction>
      </actuator>
    </transmission>

    <transmission name="finger_pulp_Joint4_trans">
      <type>transmission_interface/SimpleTransmission</type>
      <joint name="finger_pulp_Joint4">        					          		  
        <hardwareInterface>hardware_interface/PositionJointInterface</hardwareInterface>
      </joint>
      <actuator name="finger_pulp_Joint4_motor">
        <mechanicalReduction>1</mechanicalReduction>
      </actuator>
    </transmission>

     <transmission name="finger_tip_Joint4_trans">
      <type>transmission_interface/SimpleTransmission</type>
      <joint name="finger_tip_Joint4">        					          		  
        <hardwareInterface>hardware_interface/PositionJointInterface</hardwareInterface>
      </joint>
      <actuator name="finger_tip_Joint4_motor">
        <mechanicalReduction>1</mechanicalReduction>
      </actuator>
    </transmission>

    <gazebo reference="base_Link">
        <mu1>0.3</mu1>
        <mu2>0.3</mu2>
        <material>Gazebo/White</material>
    </gazebo>

    <gazebo reference="shoulder_Link">
        <mu1>0.3</mu1>
        <mu2>0.3</mu2>
        <material>Gazebo/White</material>
    </gazebo>

    <gazebo reference="bigarm_Link">
        <mu1>0.3</mu1>
        <mu2>0.3</mu2>
        <material>Gazebo/White</material>
    </gazebo>

    <gazebo reference="elbow_Link">
        <mu1>0.3</mu1>
        <mu2>0.3</mu2>
        <material>Gazebo/White</material>
    </gazebo>

    <gazebo reference="forearm_Link">
        <mu1>0.3</mu1>
        <mu2>0.3</mu2>
        <material>Gazebo/White</material>
    </gazebo>

    <gazebo reference="wrist_Link">
        <mu1>0.3</mu1>
        <mu2>0.3</mu2>
        <material>Gazebo/White</material>
    </gazebo>
    <gazebo reference="wrist_palm_Link">
        <mu1>0.3</mu1>
        <mu2>0.3</mu2>
        <material>Gazebo/White</material>
    </gazebo>

    <gazebo reference="palm_Link">
        <mu1>0.3</mu1>
        <mu2>0.3</mu2>
        <material>Gazebo/Grey</material>
    </gazebo>

    <gazebo reference="thumb_root_Link">
        <mu1>0.3</mu1>
        <mu2>0.3</mu2>
        <material>Gazebo/Grey</material>
    </gazebo>

    <gazebo reference="thumb_pulp_Link">
        <mu1>0.3</mu1>
        <mu2>0.3</mu2>
        <material>Gazebo/Grey</material>
    </gazebo>

    <gazebo reference="thumb_tip_Link">
        <mu1>0.3</mu1>
        <mu2>0.3</mu2>
        <material>Gazebo/Grey</material>
    </gazebo>
    
    <gazebo reference="finger_root_Link1">
        <mu1>0.3</mu1>
        <mu2>0.3</mu2>
        <material>Gazebo/Grey</material>
    </gazebo>

   <gazebo reference="finger_root_Link2">
        <mu1>0.3</mu1>
        <mu2>0.3</mu2>
        <material>Gazebo/Grey</material>
    </gazebo>

    <gazebo reference="finger_root__Link3">
        <mu1>0.3</mu1>
        <mu2>0.3</mu2>
        <material>Gazebo/Grey</material>
    </gazebo>

   <gazebo reference="finger_root__Link4">
        <mu1>0.3</mu1>
        <mu2>0.3</mu2>
        <material>Gazebo/Grey</material>
    </gazebo>

       <gazebo reference="finger_pulp_Link1">
        <mu1>0.3</mu1>
        <mu2>0.3</mu2>
        <material>Gazebo/Grey</material>
    </gazebo>

   <gazebo reference="finger_pulp_Link2">
        <mu1>0.3</mu1>
        <mu2>0.3</mu2>
        <material>Gazebo/Grey</material>
    </gazebo>

    <gazebo reference="finger_pulp_Link3">
        <mu1>0.3</mu1>
        <mu2>0.3</mu2>
        <material>Gazebo/Grey</material>
    </gazebo>

   <gazebo reference="finger_pulp_Link4">
        <mu1>0.3</mu1>
        <mu2>0.3</mu2>
        <material>Gazebo/Grey</material>
    </gazebo>

    <gazebo reference="finger_tip_Link1">
        <mu1>0.3</mu1>
        <mu2>0.3</mu2>
        <material>Gazebo/Grey</material>
    </gazebo>

   <gazebo reference="finger_tip_Link2">
        <mu1>0.3</mu1>
        <mu2>0.3</mu2>
        <material>Gazebo/Grey</material>
    </gazebo>

    <gazebo reference="finger_tip_Link3">
        <mu1>0.3</mu1>
        <mu2>0.3</mu2>
        <material>Gazebo/Grey</material>
    </gazebo>

   <gazebo reference="finger_tip_Link4">
        <mu1>0.3</mu1>
        <mu2>0.3</mu2>
        <material>Gazebo/Grey</material>
    </gazebo>
    
</robot>
